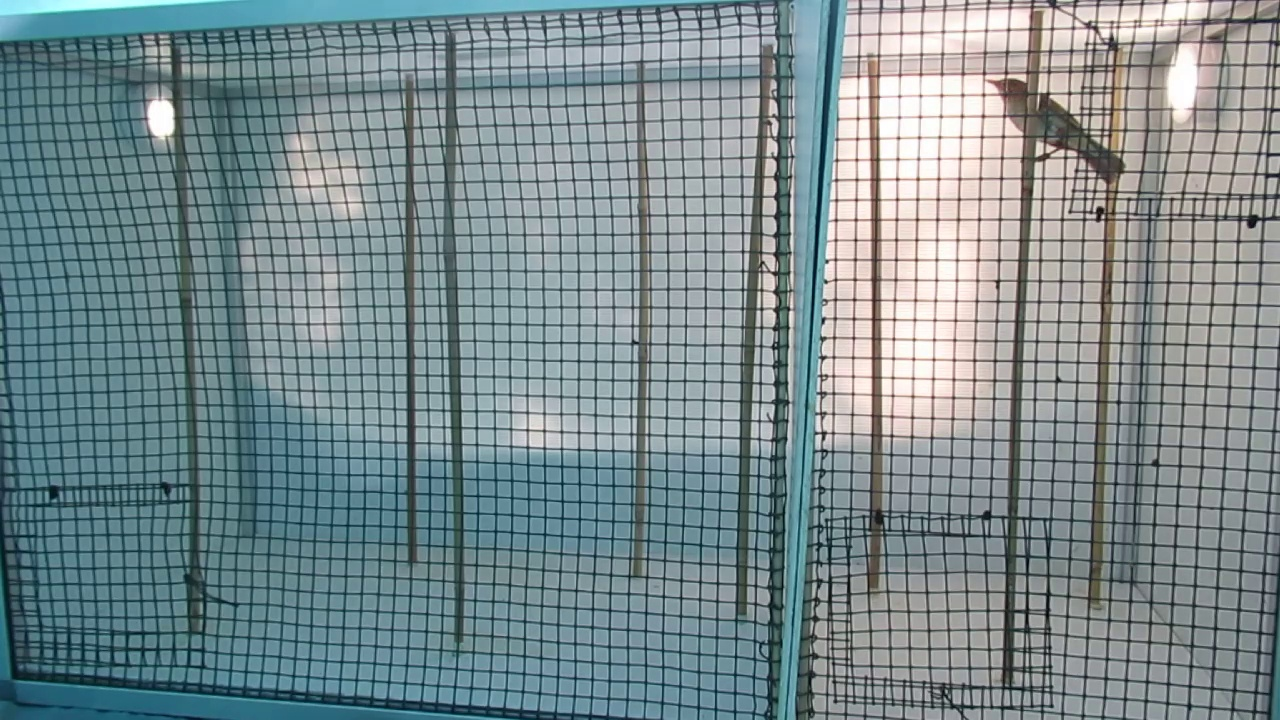bird: (984, 78, 1132, 184)
stick: (1002, 13, 1044, 684), (733, 46, 777, 617), (1089, 45, 1128, 605), (431, 37, 466, 643), (170, 49, 204, 630), (634, 62, 655, 577), (866, 59, 885, 588), (401, 78, 421, 564)
